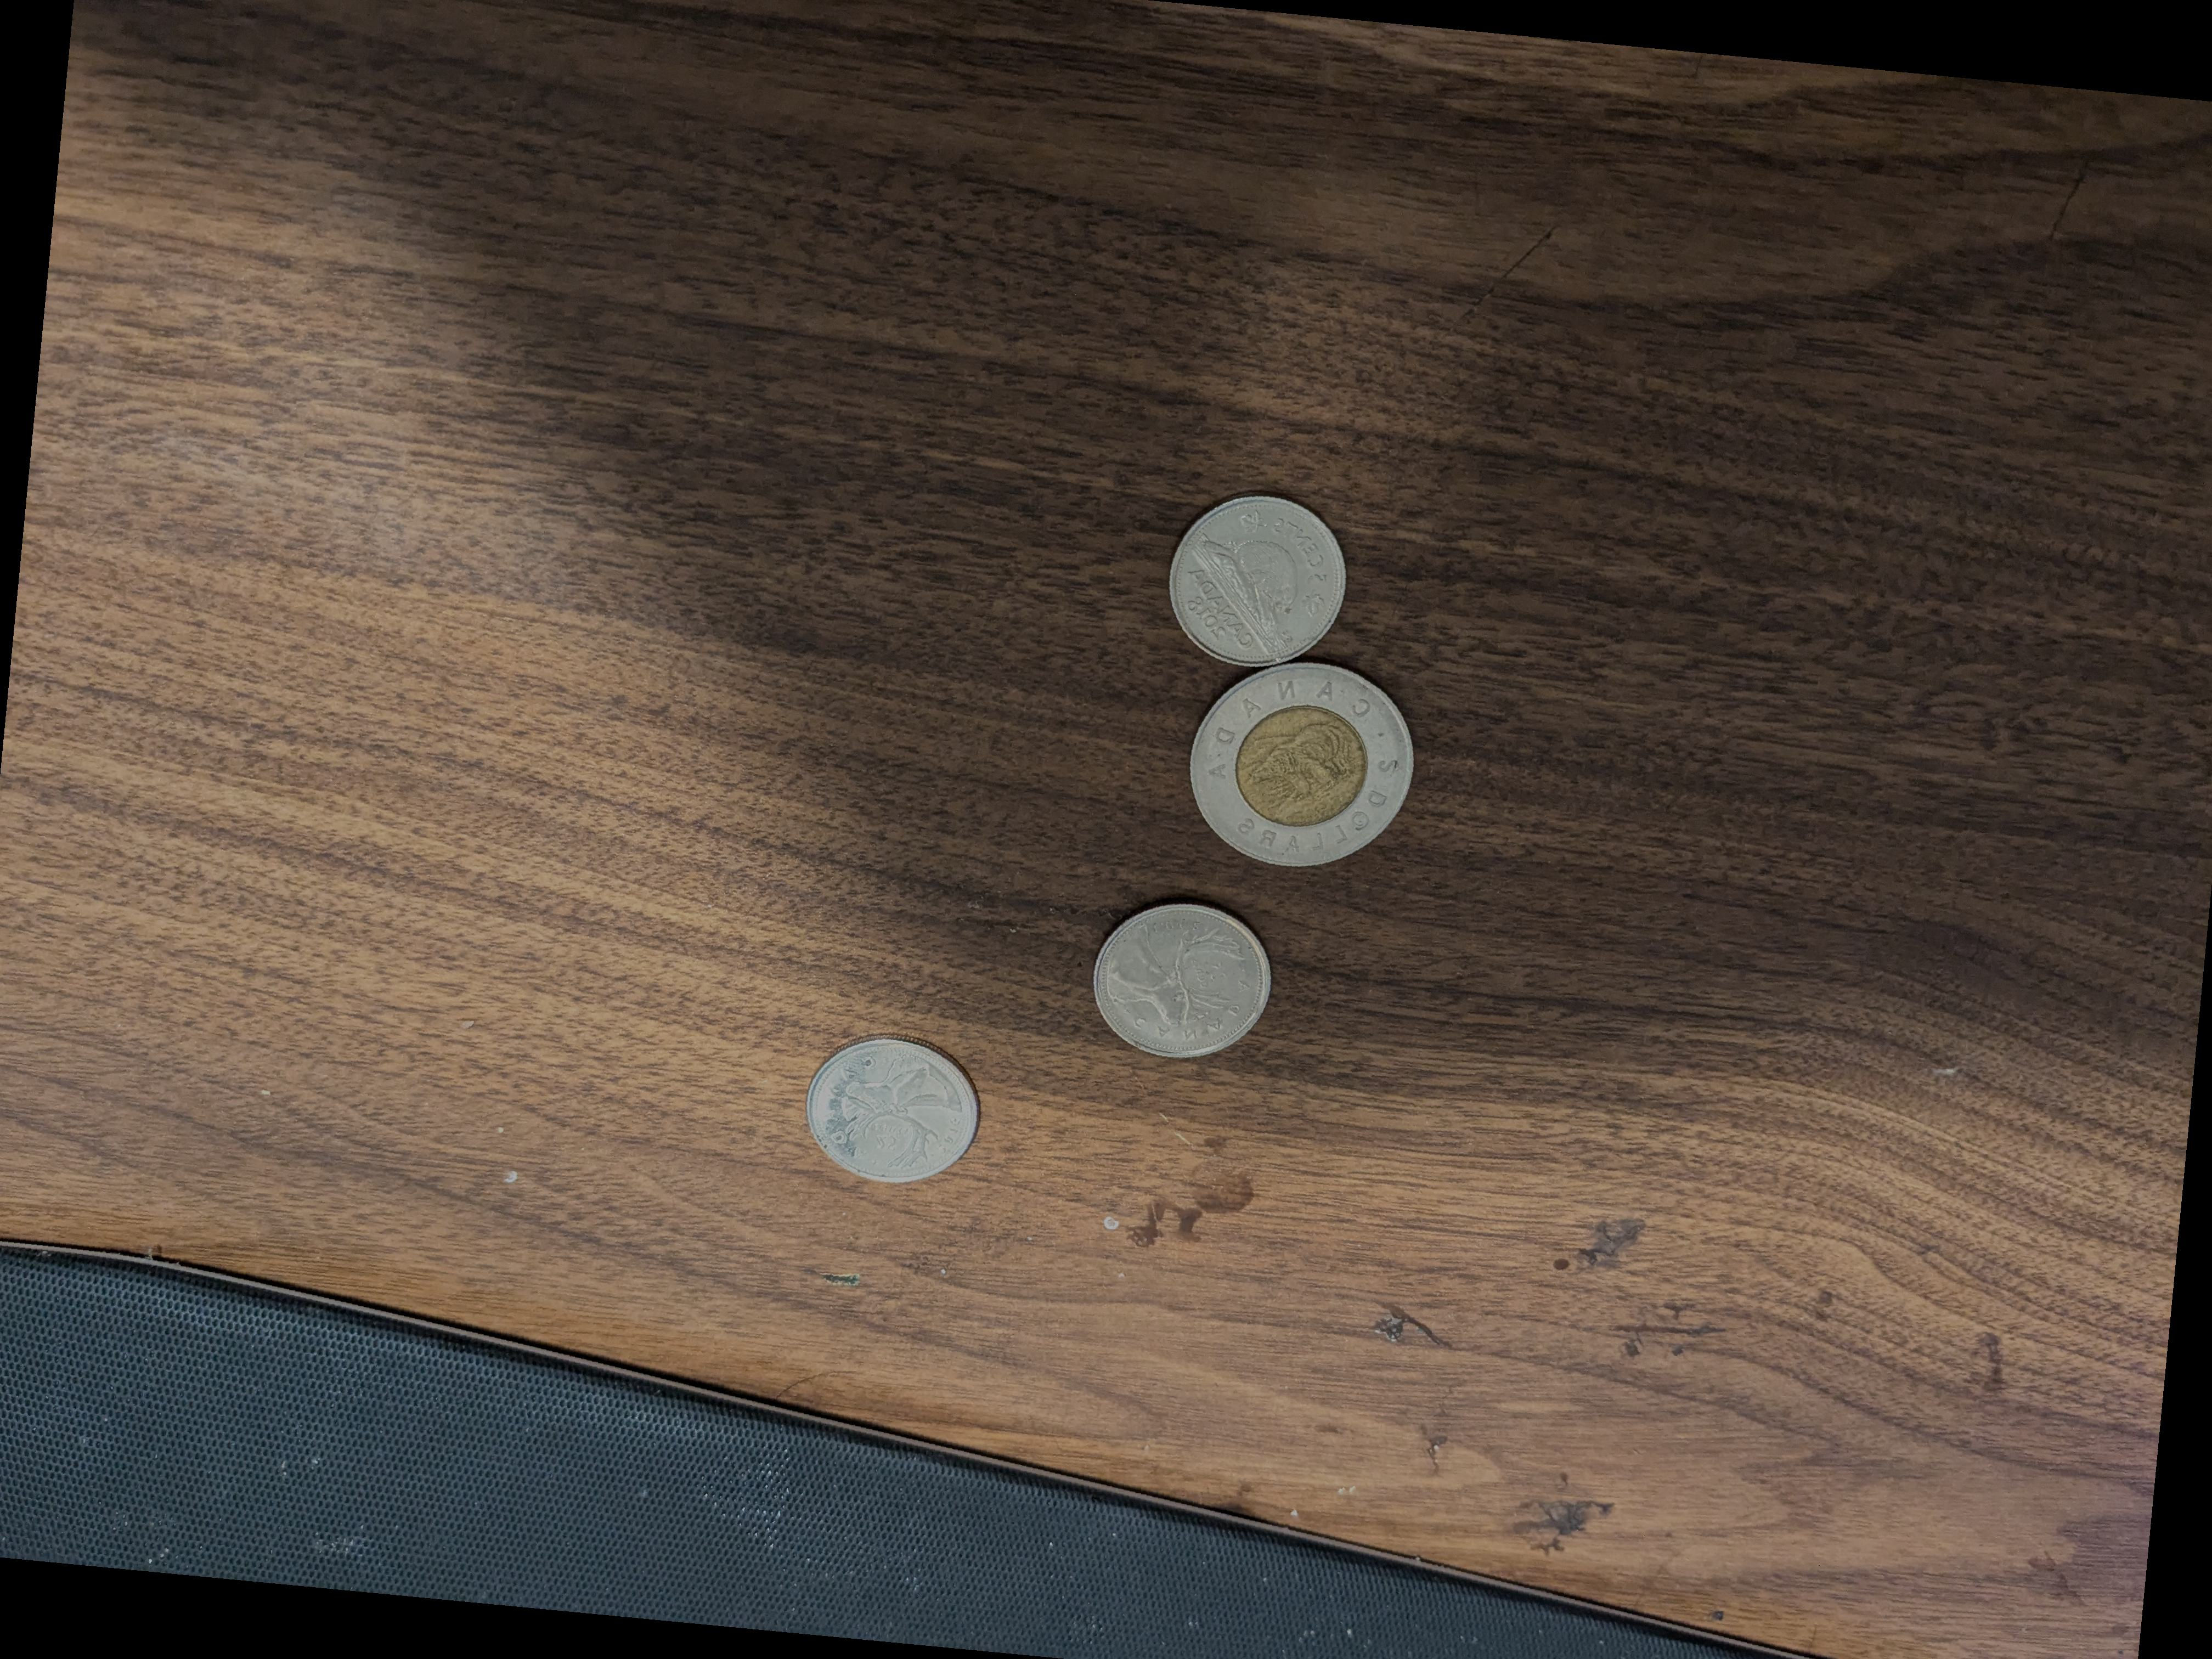nickel: (1162, 495, 1346, 666)
quarter: (1094, 904, 1275, 1063), (813, 1037, 981, 1182)
toonie: (1188, 659, 1426, 878)
